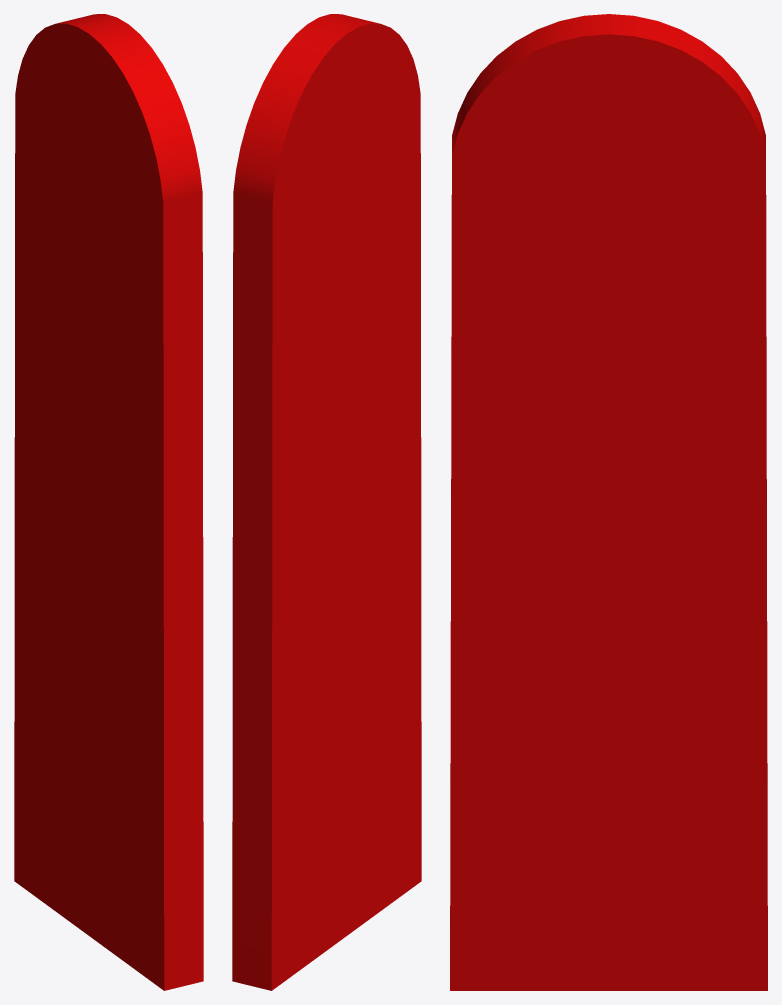
File: bottomred.fbx
The picture shows the model from 3 angles, left to right: view 1: azimuth 30°, elevation 25°; view 2: azimuth 150°, elevation 25°; view 3: azimuth 270°, elevation 25°; orthographic projection. The views are drawn at different scales.
Visible parts, largest first — view 1: pCylinder5; view 2: pCylinder5; view 3: pCylinder5.
Boxes of the visible parts, box(x1,y1,x2,y2) form: pCylinder5: box(14, 14, 203, 990); pCylinder5: box(232, 14, 421, 990); pCylinder5: box(450, 14, 767, 990).
Size of the model in its own units: 67.81 by 1483 by 447.
